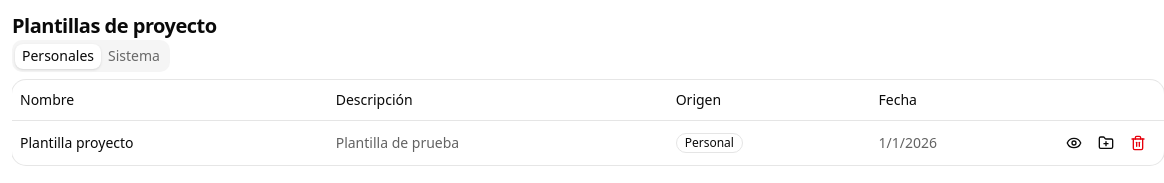
PlantillasProyectoPage › la pestaña Sistema permite ver y usar pero no eliminar
Click the tab "Sistema" at point(134, 56), box [101,44,167,68]
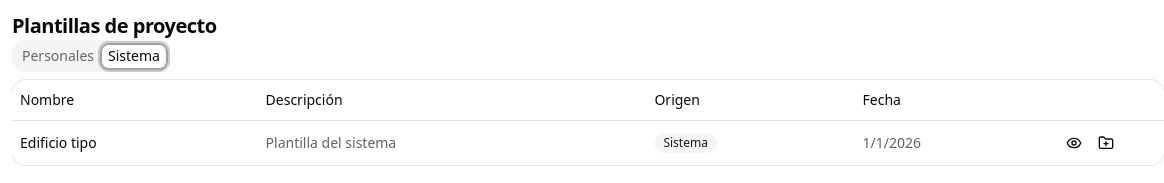
expect the button titled "Crear proyecto desde esta plantilla" is shown: met, box [1092,128,1120,156]
expect the text "Edificio tipo" is shown: met, box [12,120,258,164]
